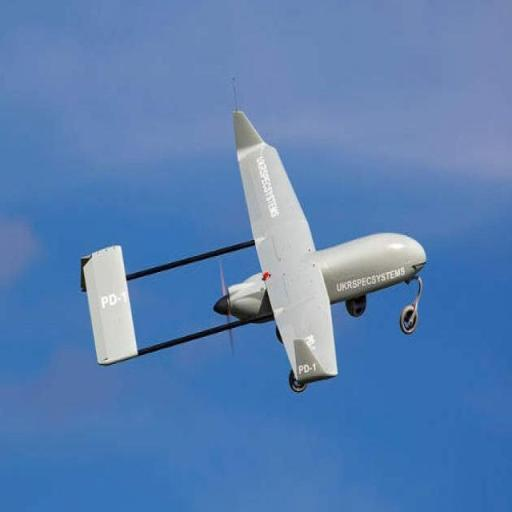uav: (74, 100, 444, 391)
